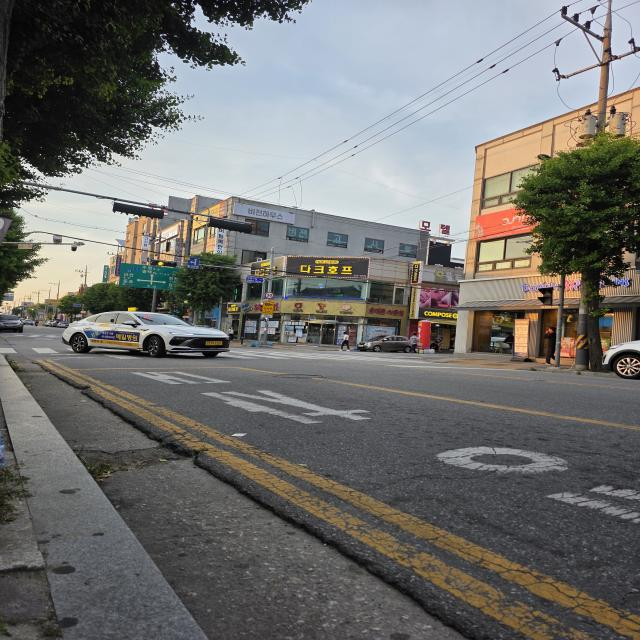car: (63, 309, 231, 358), (589, 336, 640, 384), (357, 335, 416, 353), (0, 311, 35, 337)
